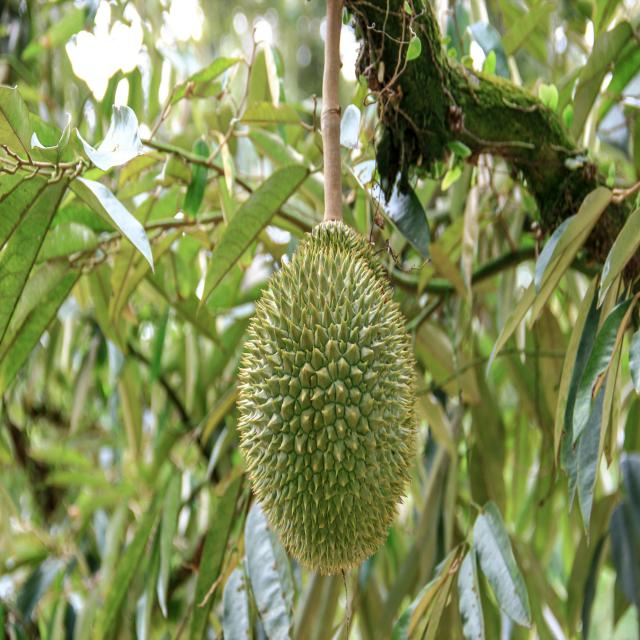immature: (229, 211, 424, 580)
